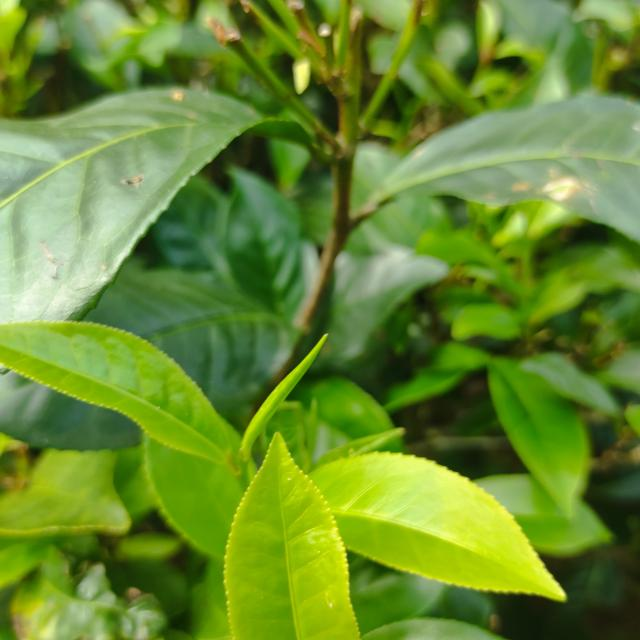unopened_leaf: (232, 320, 335, 470)
